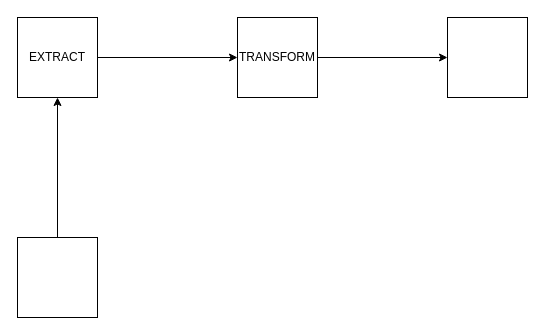
Image size: 545x335. Some labels were removed from this diagram. The box of each missing label's shape, as (x1, y1, x2, y2) in pixels:
CONNECT: (16, 236, 98, 318)
LOAD: (446, 16, 528, 98)
